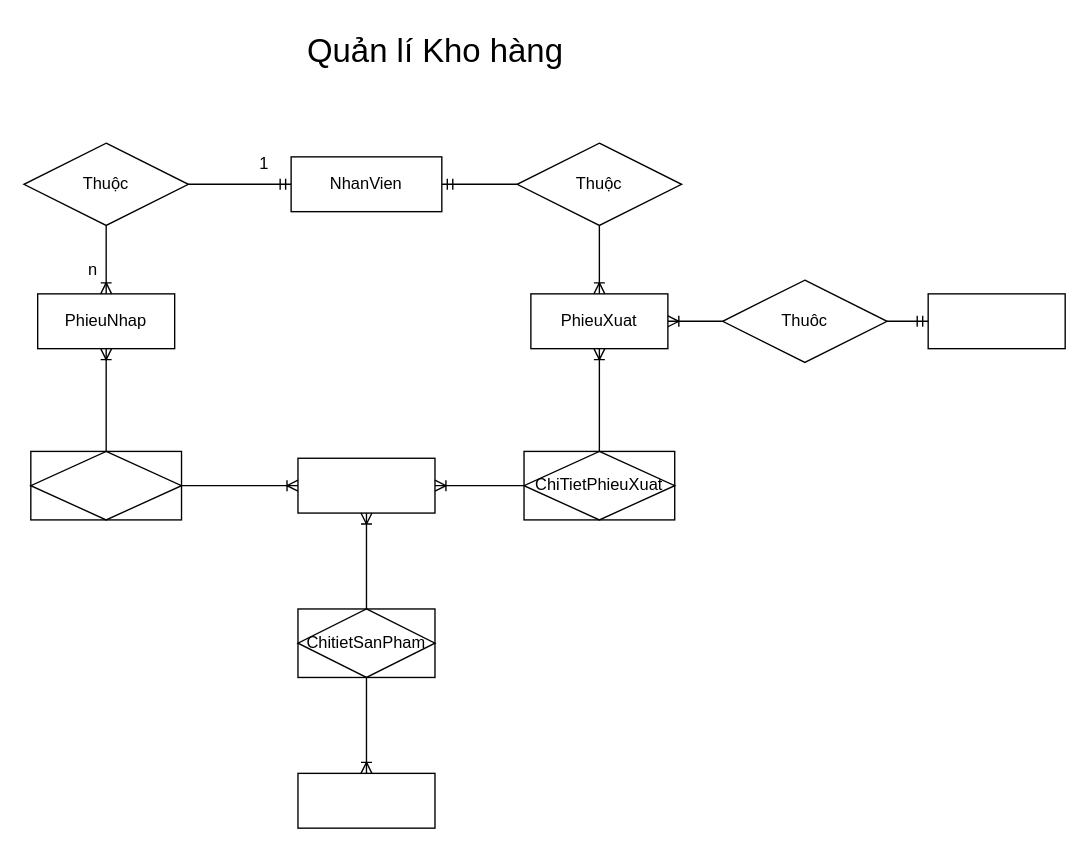
This 1089x863 diagram has some shape labels left out. The shapes that lost their labels are listed below. From the top down, each one's centre as x and y in pixels, then its label:
At (996,320): "CuaHang".
At (105,485): "ChiTietPhieuNhap".
At (366,485): "SanPham".
At (366,800): "NhaCungCap".
